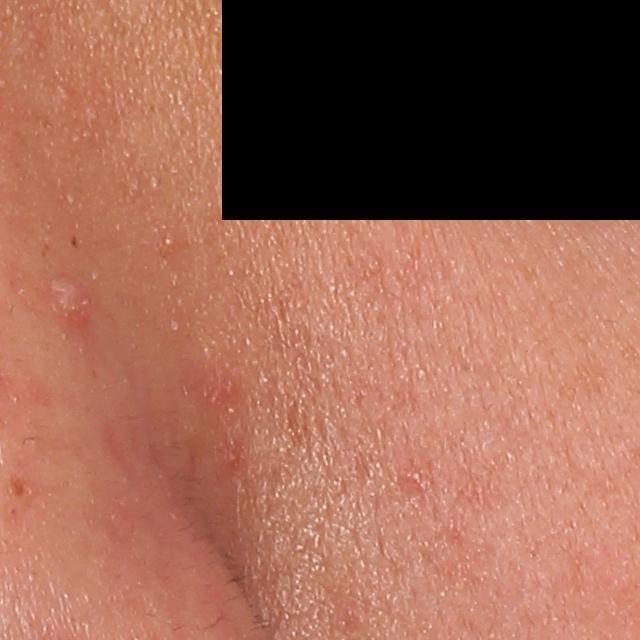nevus: (68, 235, 79, 250)
papule: (44, 267, 97, 330)
